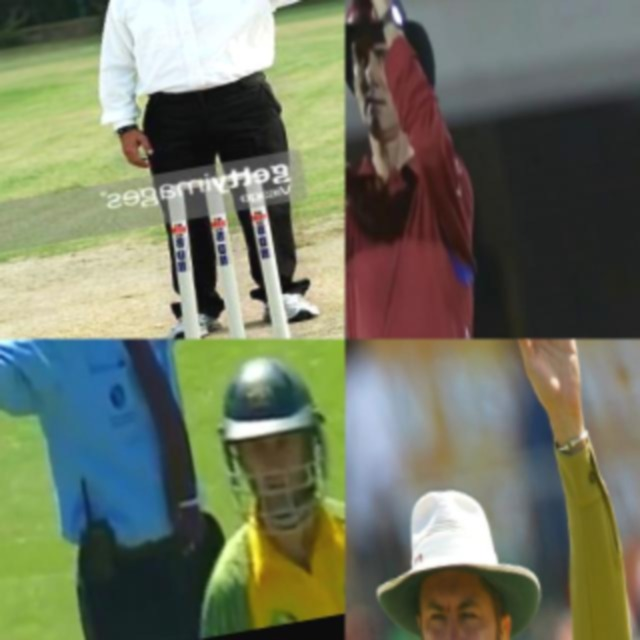No_Ball: (68, 0, 345, 339)
Six: (345, 339, 640, 640), (345, 0, 552, 339)
Wide: (0, 339, 345, 550)
